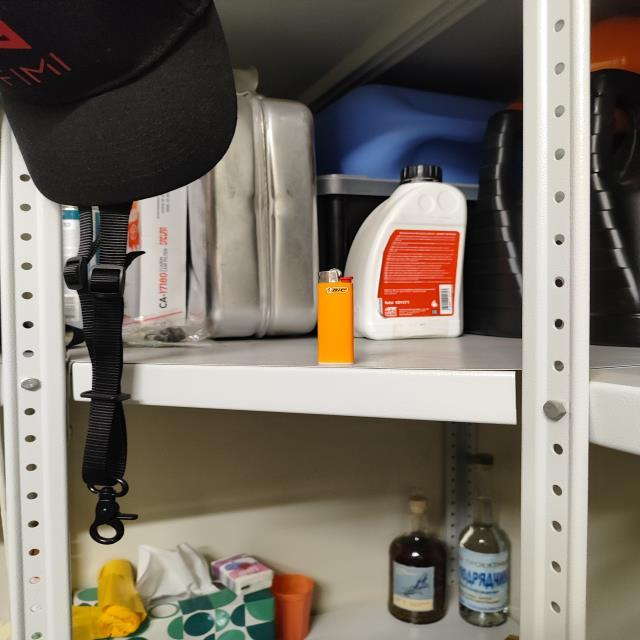lighter: (318, 269, 354, 364)
